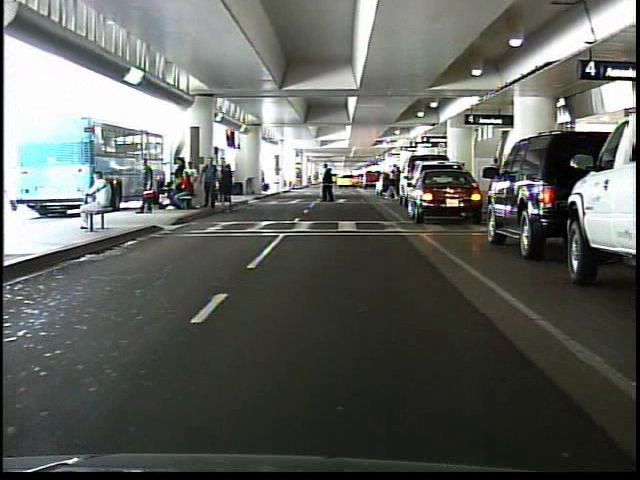person: (67, 165, 115, 235), (131, 153, 158, 218), (319, 162, 342, 208), (385, 161, 400, 199)
